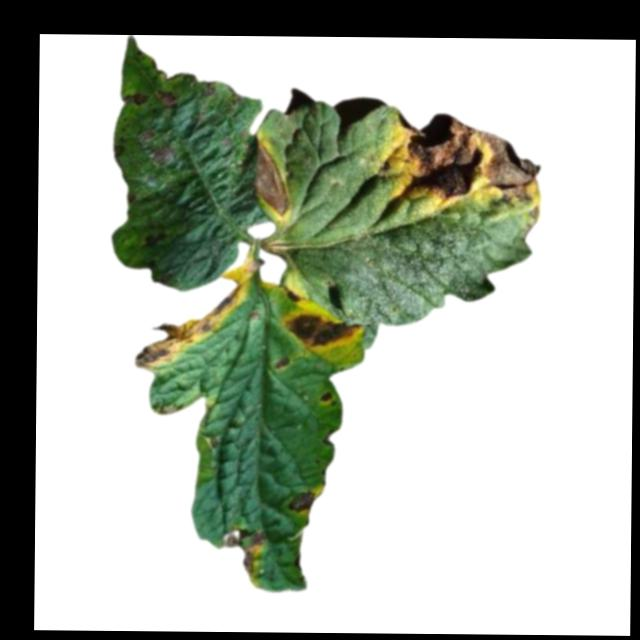Early_blight: (380, 110, 542, 208), (126, 254, 253, 371), (254, 135, 289, 217), (288, 312, 361, 350), (220, 524, 267, 578), (285, 487, 314, 512), (151, 89, 178, 108), (120, 90, 147, 104), (272, 353, 291, 371), (317, 390, 333, 402)
